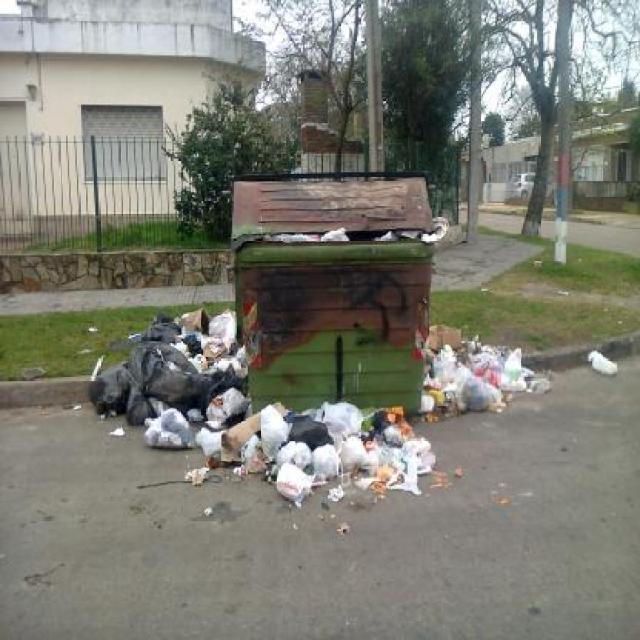garbage: (225, 402, 416, 496), (109, 316, 240, 439), (423, 331, 537, 417)
